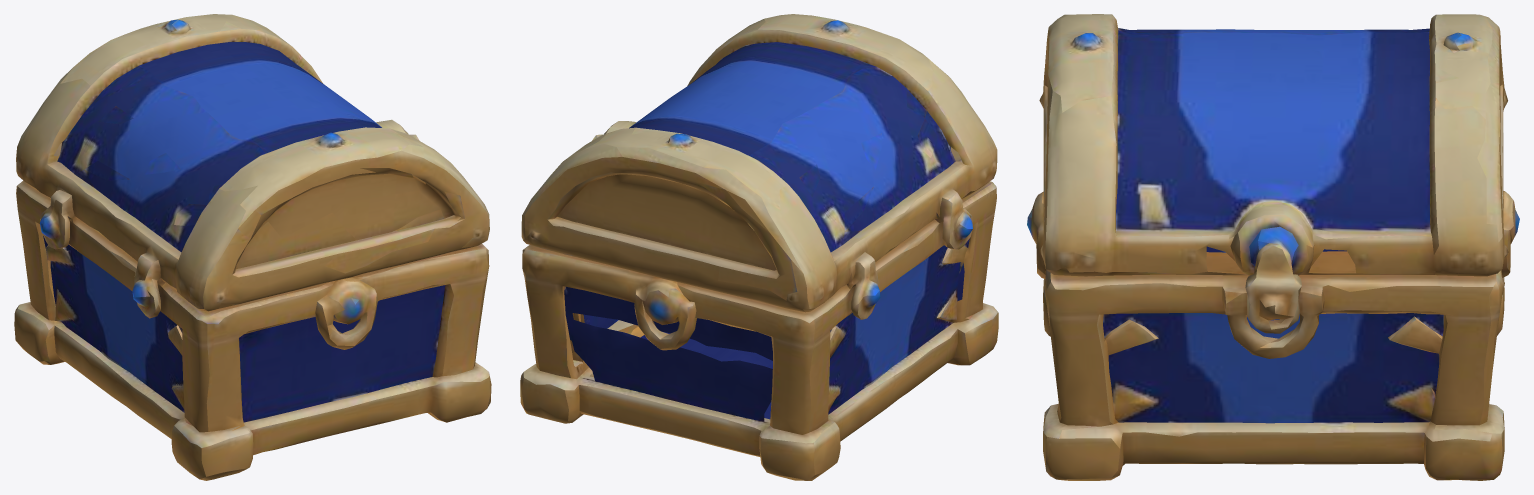
The model's file is lg-treasure-chest-ornate.glb.
3 views of the same model, side by side, from view 1: azimuth 30°, elevation 25°; view 2: azimuth 150°, elevation 25°; view 3: azimuth 270°, elevation 25° (orthographic). The views are drawn at different scales.
Parts seen in each view (by area): view 1: geometry_0; view 2: geometry_0; view 3: geometry_0.
Boxes of the visible parts, bbox=[...] form: geometry_0: bbox=[14, 14, 491, 480]; geometry_0: bbox=[520, 14, 998, 480]; geometry_0: bbox=[1027, 14, 1519, 480].
Bounding box in the file's own units: 0.9668 × 0.8206 × 1.
Materials: 1 (1 with a texture image).
